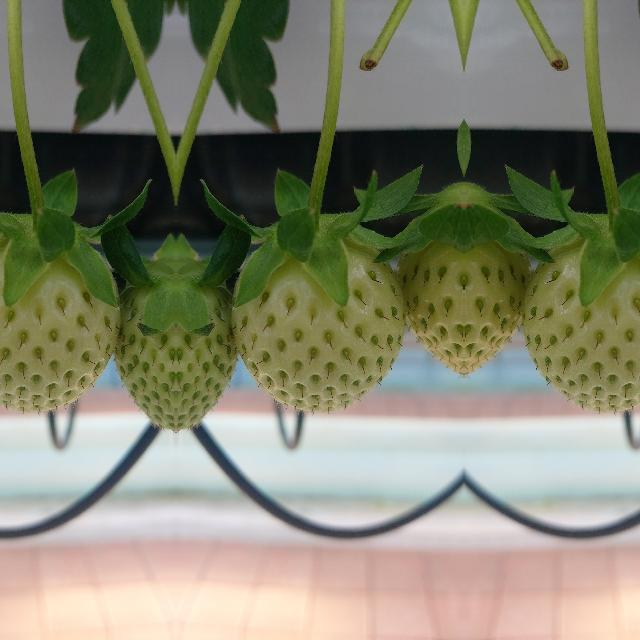Health_25: (231, 244, 403, 412), (0, 244, 119, 411), (523, 244, 640, 411), (398, 176, 462, 394), (464, 176, 528, 394), (177, 213, 237, 437), (113, 213, 173, 437)
